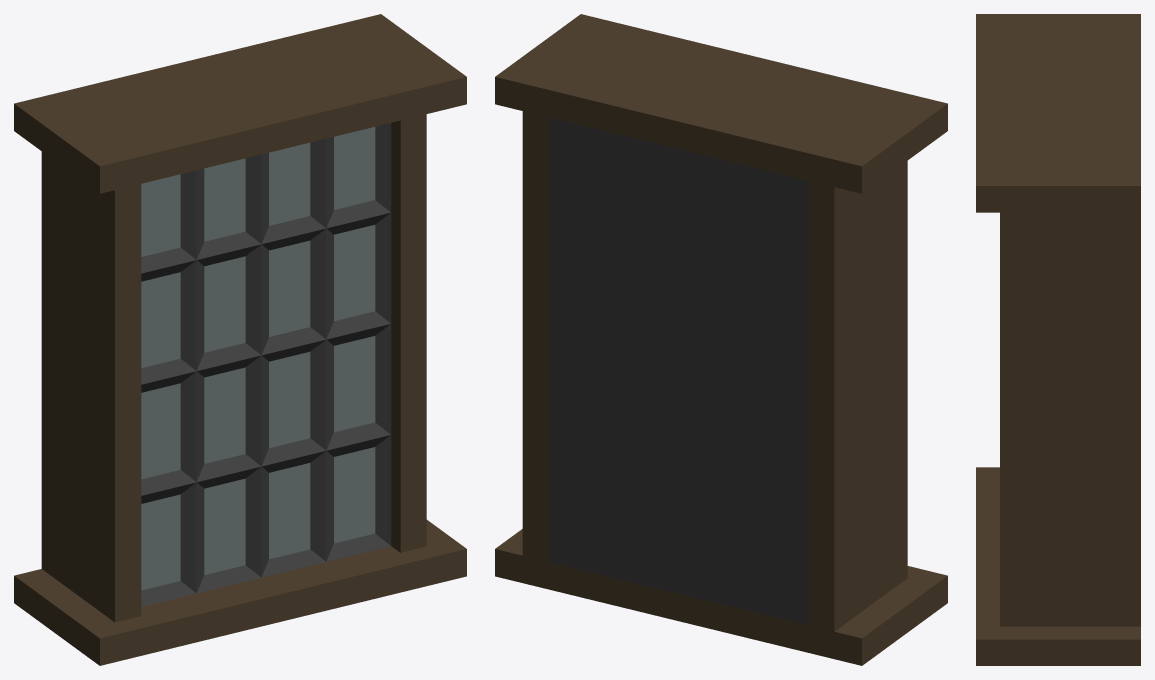
The model's file is PS_Window03.fbx.
3 views of the same model, side by side, from view 1: azimuth 30°, elevation 25°; view 2: azimuth 150°, elevation 25°; view 3: azimuth 270°, elevation 25° (orthographic). The views are drawn at different scales.
Visible parts, largest first — view 1: PS_Window03; view 2: PS_Window03; view 3: PS_Window03.
Part boxes in pixels (<box>): PS_Window03: <box>14,14,466,665</box>; PS_Window03: <box>495,14,947,665</box>; PS_Window03: <box>976,14,1140,665</box>.
Bounding box in the file's own units: 0.6248 × 0.8126 × 0.2531.
